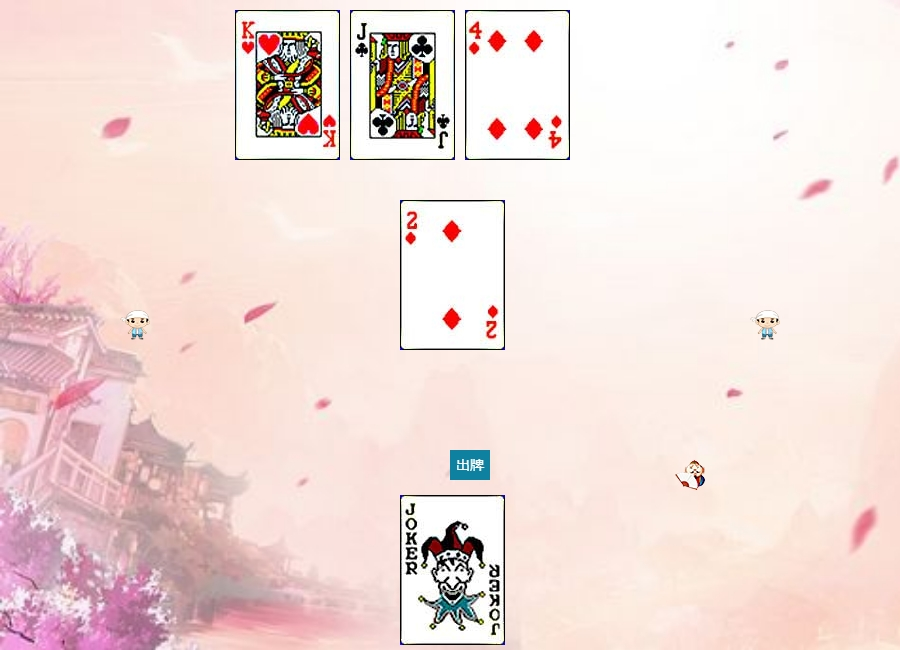11~2: (350, 10, 455, 160)
13~3: (235, 10, 340, 160)
15~1: (400, 200, 505, 350)
17~3: (400, 495, 505, 645)
4~1: (465, 10, 570, 160)
